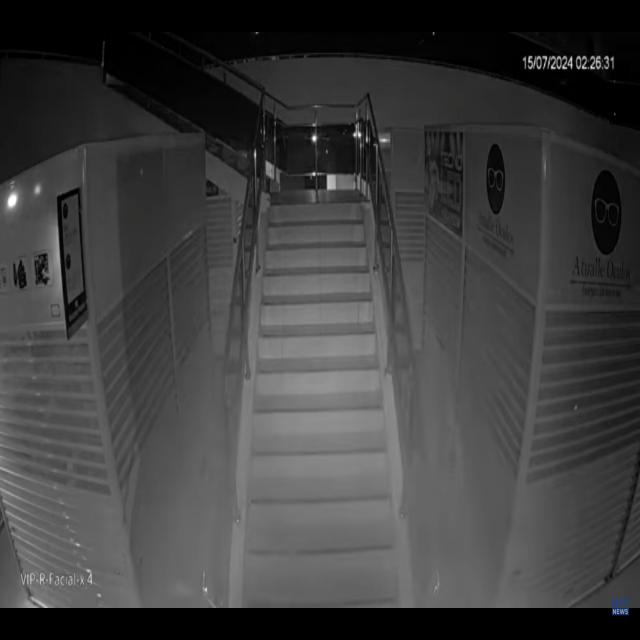Atencao: (56, 198, 596, 595)
